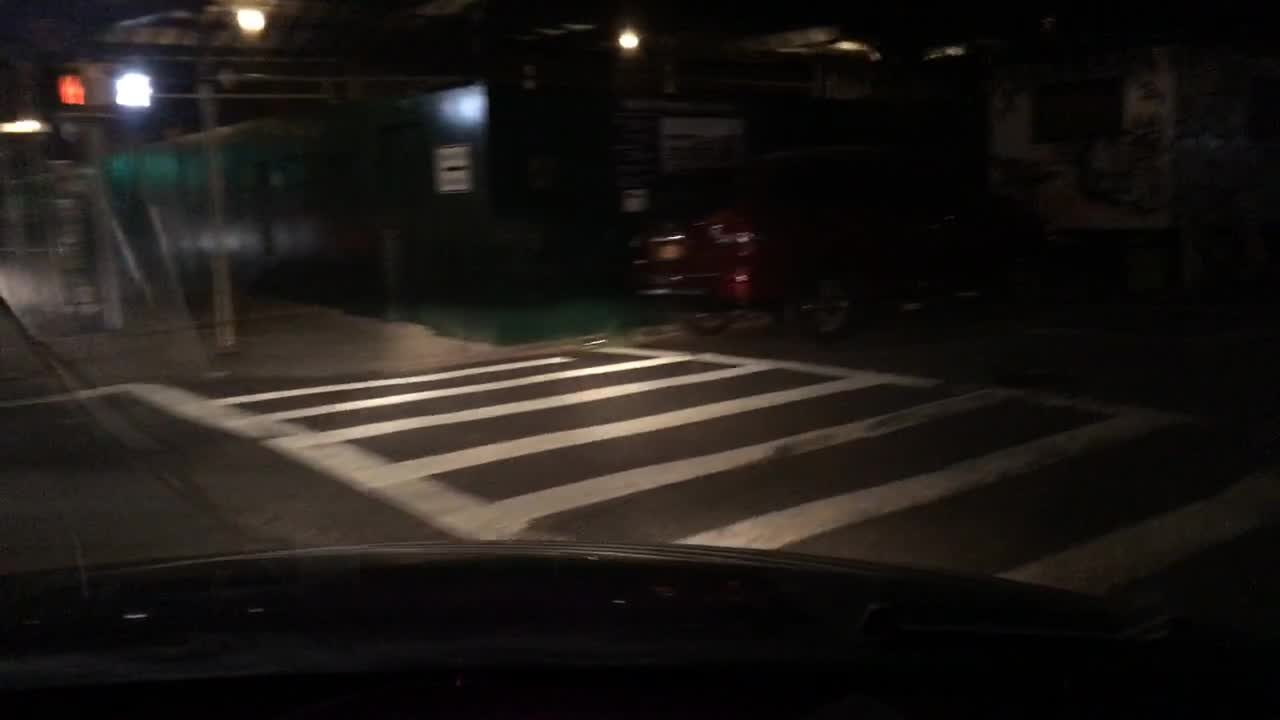car: (628, 142, 1051, 347)
traffic light: (47, 61, 109, 109), (111, 70, 155, 109)
traffic sign: (432, 142, 474, 193)
